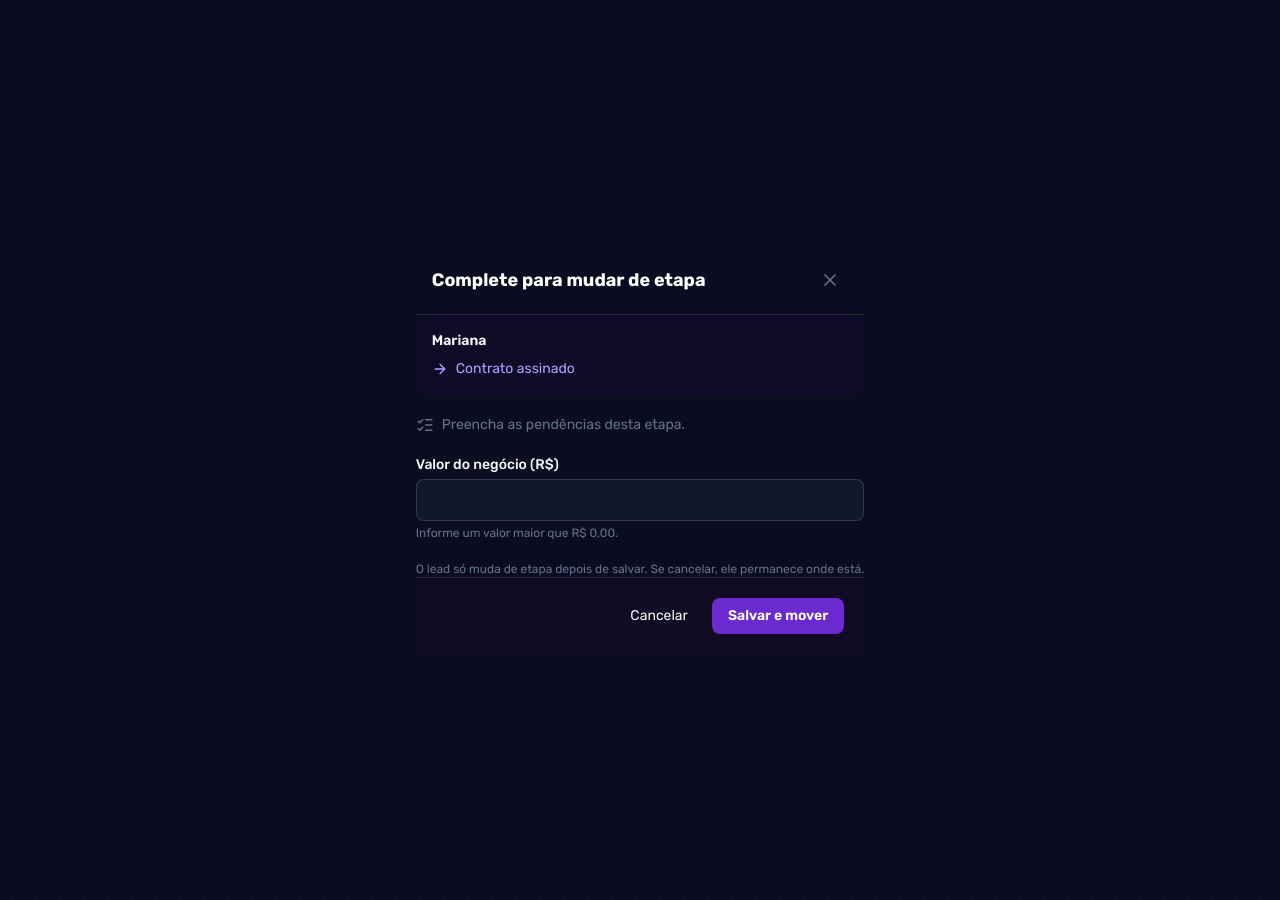
Test: blocks an empty or nonpositive deal value (0) before persisting
Type "0" into the number field labelled "Valor do negócio (R$)".
click(640, 500); type("0")  # box [416, 479, 864, 521]
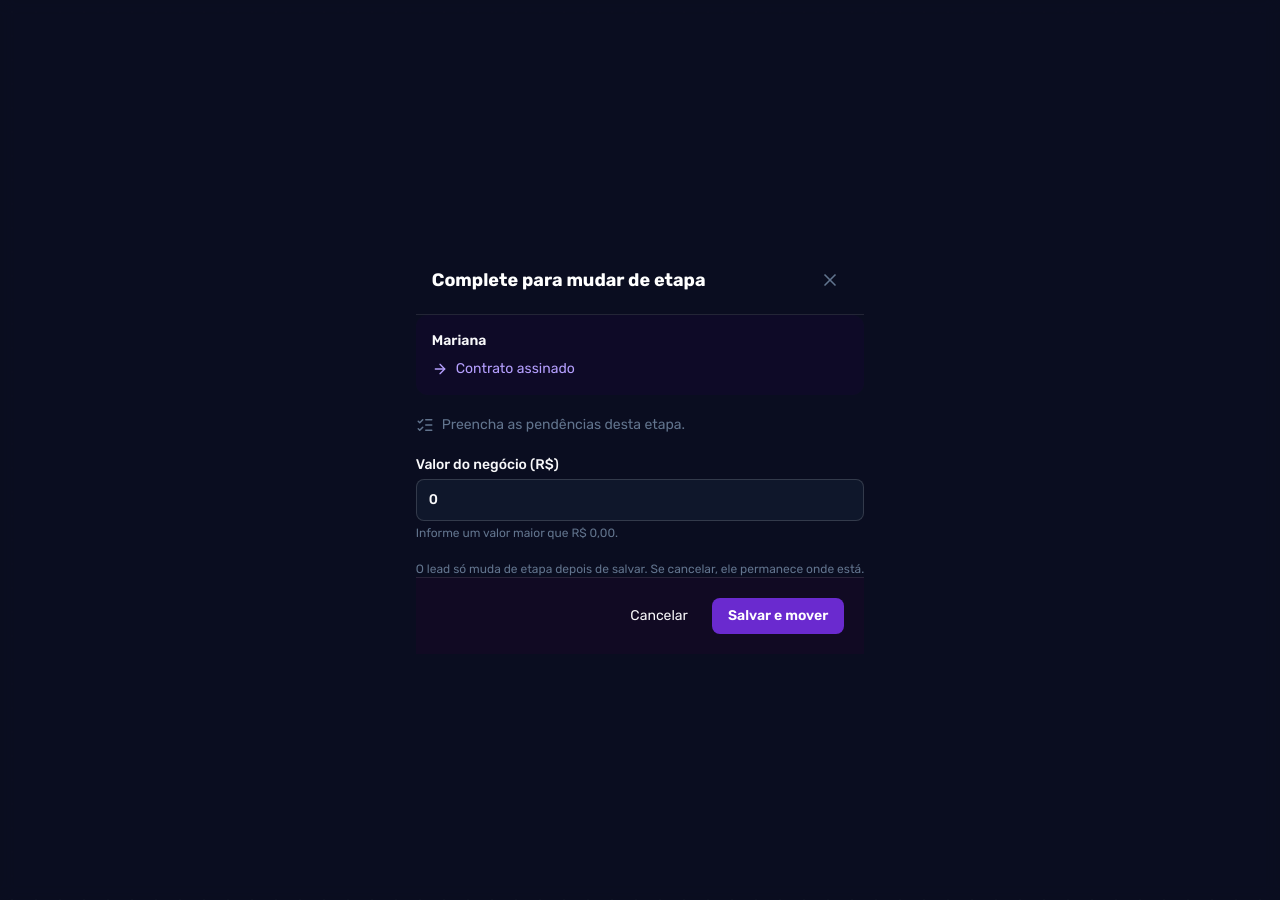
Submit the form named "Valor do negócio (R$)", box [416, 315, 864, 577]
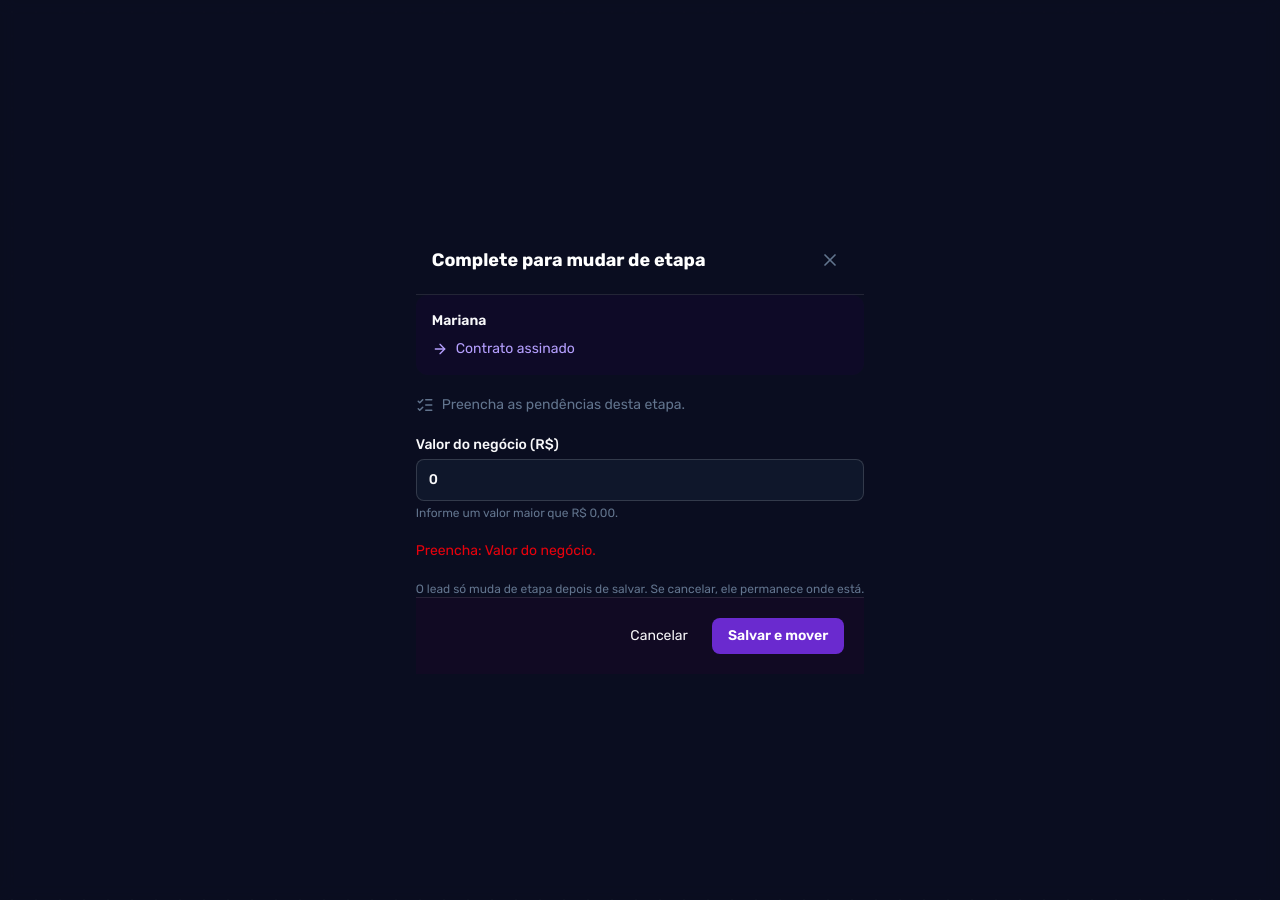
Expected: the dialog is shown, [416, 226, 864, 674]
Result: the message shows "Valor do negócio" at [416, 542, 596, 559]
